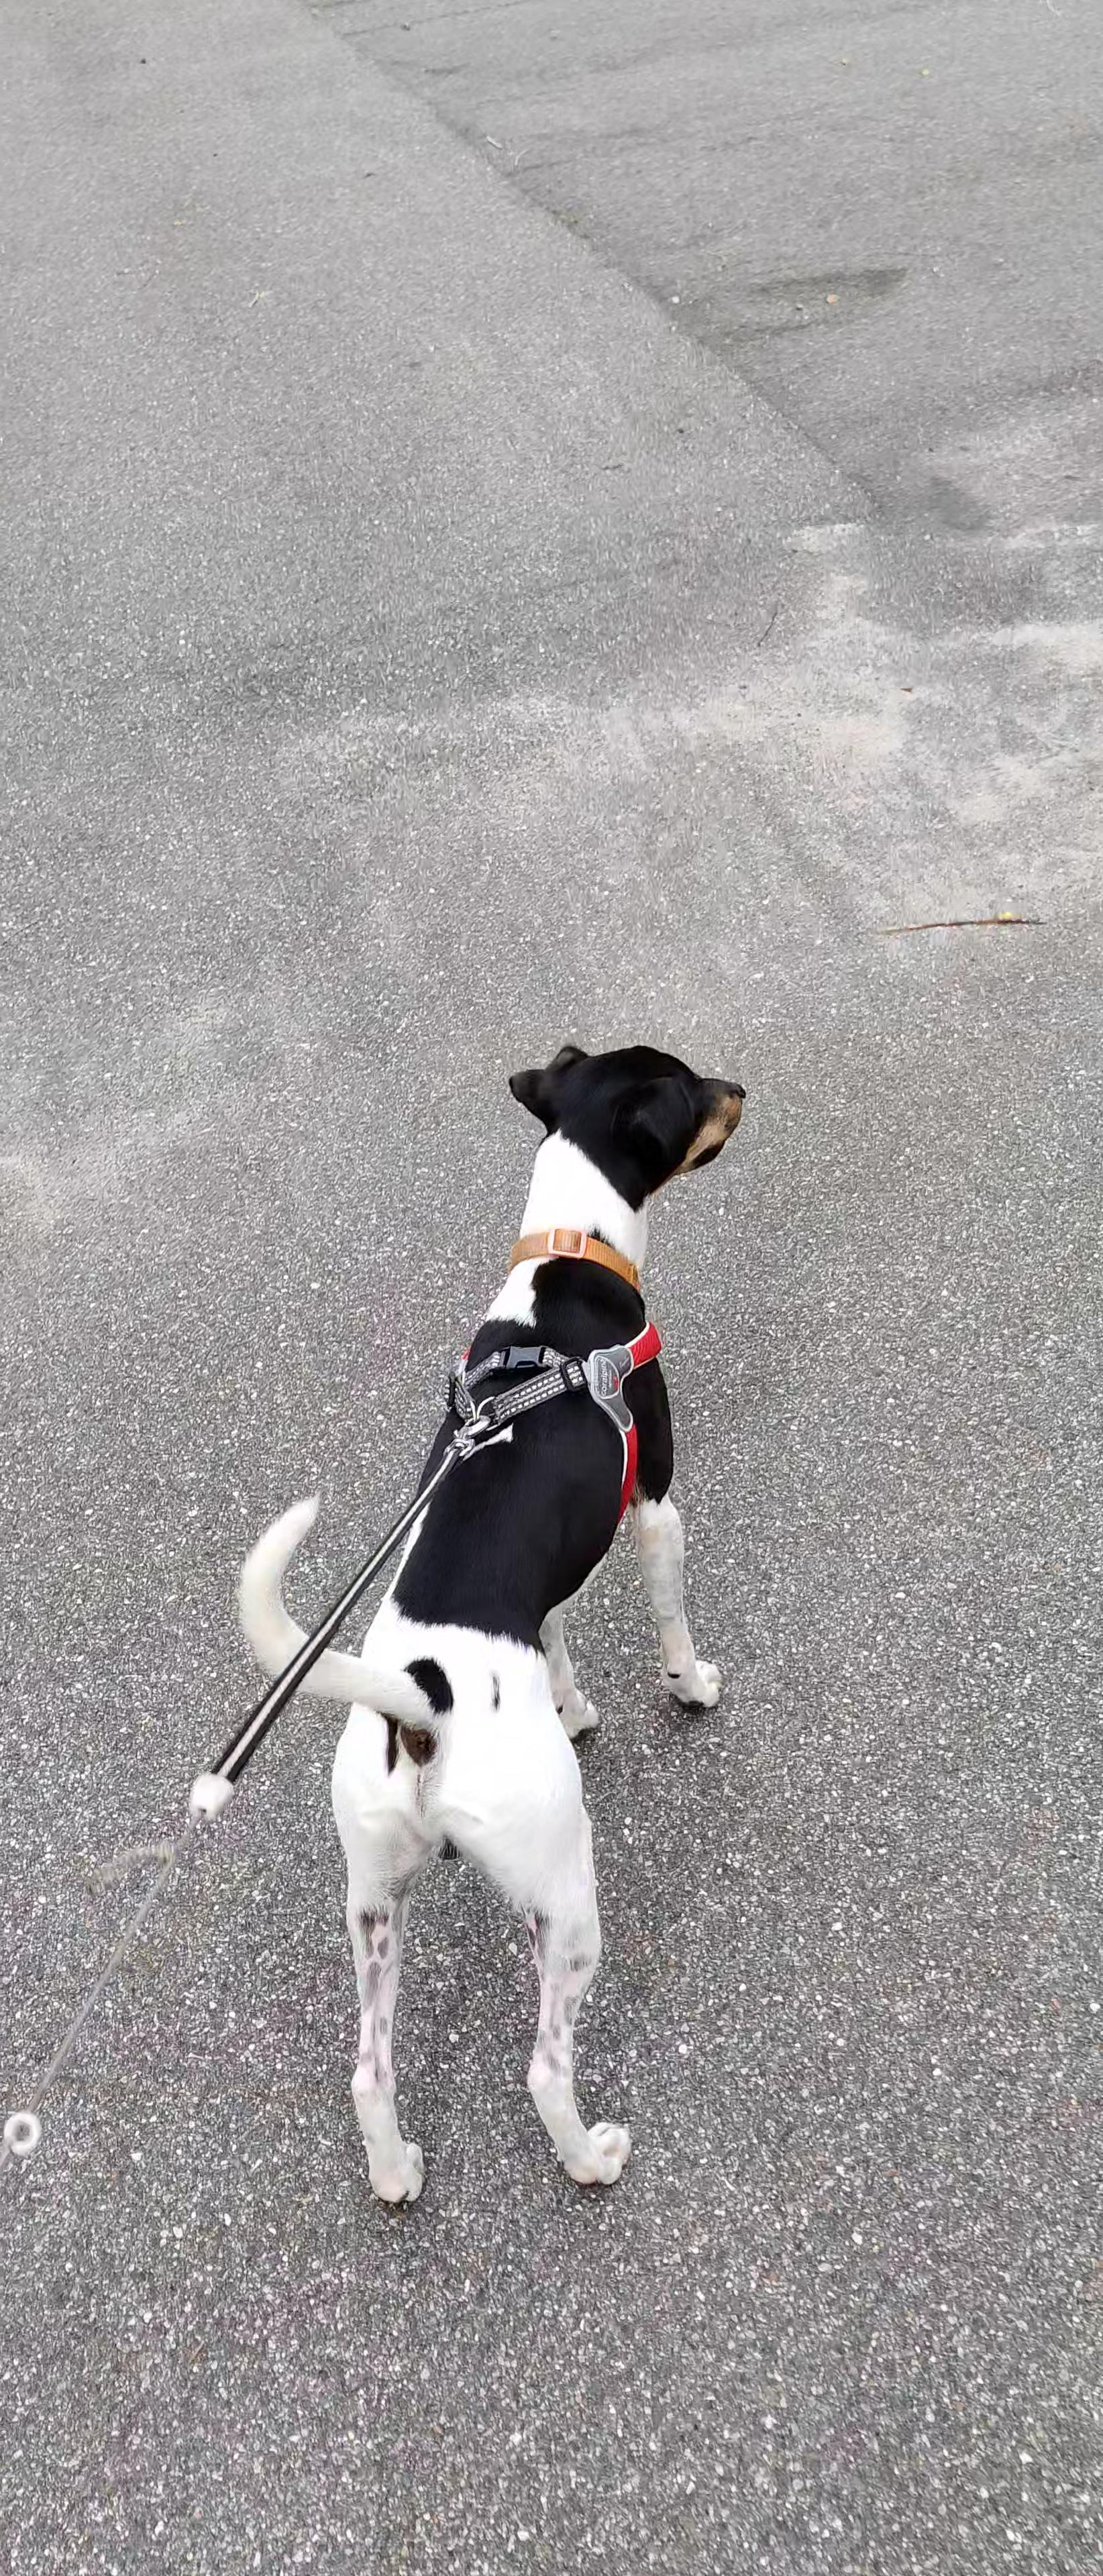Dog: (212, 1038, 755, 2213)
